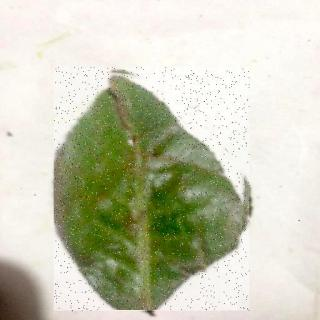Red Leaf Spot: (55, 69, 250, 313)
